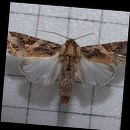Spodoptera litura: (5, 29, 125, 105)
